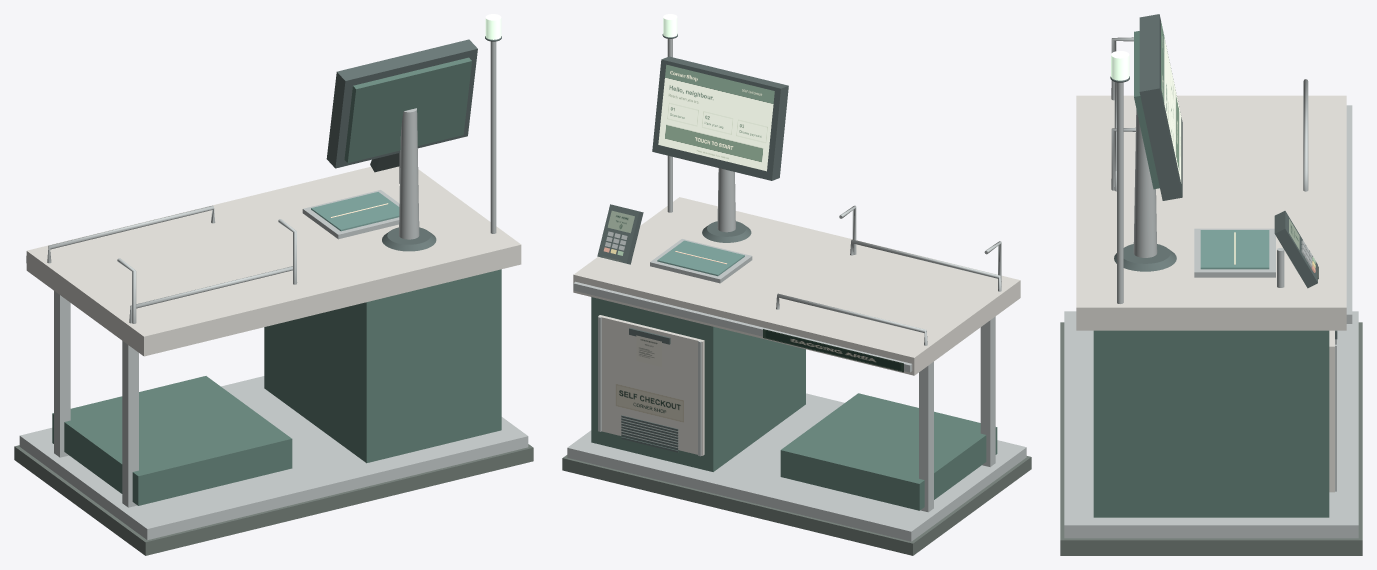
File: self-checkout-bagging.glb
3 renders of one model, left to right at view 1: azimuth 30°, elevation 25°; view 2: azimuth 150°, elevation 25°; view 3: azimuth 270°, elevation 25°, orthographic. The views are drawn at different scales.
Visible parts, largest first — view 1: library-equipment-self-checkout-bagging-product-equipment-fo, library-equipment-self-checkout-bagging-product-equipment-cr, library-equipment-self-checkout-bagging-product-equipment-st, library-equipment-self-checkout-bagging-product-equipment-ru, library-equipment-self-checkout-bagging-product-equipment-da, library-equipment-self-checkout-bagging-scanner-window; view 2: library-equipment-self-checkout-bagging-product-equipment-cr, library-equipment-self-checkout-bagging-product-equipment-fo, library-equipment-self-checkout-bagging-product-equipment-st, library-equipment-self-checkout-bagging-screen-mount-touchsc, library-equipment-self-checkout-bagging-product-equipment-da, library-equipment-self-checkout-bagging-product-equipment-ru, library-equipment-self-checkout-bagging-scanner-window, library-equipment-self-checkout-bagging-front-brand, library-equipment-self-checkout-bagging-bagging-sign, library-equipment-self-checkout-bagging-receipt-paper; view 3: library-equipment-self-checkout-bagging-product-equipment-cr, library-equipment-self-checkout-bagging-product-equipment-fo, library-equipment-self-checkout-bagging-product-equipment-st, library-equipment-self-checkout-bagging-product-equipment-ru, library-equipment-self-checkout-bagging-product-equipment-da, library-equipment-self-checkout-bagging-scanner-window, library-equipment-self-checkout-bagging-screen-mount-touchsc, library-equipment-self-checkout-bagging-assistance-light.
Boxes of the visible parts, x1=… form: library-equipment-self-checkout-bagging-product-equipment-fo: x1=52, y1=57, x2=501, y2=505; library-equipment-self-checkout-bagging-product-equipment-cr: x1=26, y1=166, x2=521, y2=356; library-equipment-self-checkout-bagging-product-equipment-st: x1=19, y1=41, x2=528, y2=539; library-equipment-self-checkout-bagging-product-equipment-ru: x1=14, y1=444, x2=533, y2=555; library-equipment-self-checkout-bagging-product-equipment-da: x1=326, y1=36, x2=501, y2=251; library-equipment-self-checkout-bagging-scanner-window: x1=311, y1=192, x2=399, y2=231; library-equipment-self-checkout-bagging-product-equipment-cr: x1=573, y1=197, x2=1020, y2=455; library-equipment-self-checkout-bagging-product-equipment-fo: x1=591, y1=297, x2=997, y2=510; library-equipment-self-checkout-bagging-product-equipment-st: x1=567, y1=38, x2=1026, y2=541; library-equipment-self-checkout-bagging-screen-mount-touchsc: x1=658, y1=64, x2=774, y2=171; library-equipment-self-checkout-bagging-product-equipment-da: x1=597, y1=34, x2=788, y2=452; library-equipment-self-checkout-bagging-product-equipment-ru: x1=562, y1=256, x2=1031, y2=555; library-equipment-self-checkout-bagging-scanner-window: x1=657, y1=240, x2=744, y2=276; library-equipment-self-checkout-bagging-front-brand: x1=615, y1=384, x2=683, y2=422; library-equipment-self-checkout-bagging-bagging-sign: x1=763, y1=329, x2=903, y2=372; library-equipment-self-checkout-bagging-receipt-paper: x1=636, y1=335, x2=661, y2=367; library-equipment-self-checkout-bagging-product-equipment-cr: x1=1076, y1=95, x2=1346, y2=492; library-equipment-self-checkout-bagging-product-equipment-fo: x1=1093, y1=31, x2=1329, y2=517; library-equipment-self-checkout-bagging-product-equipment-st: x1=1064, y1=37, x2=1358, y2=538; library-equipment-self-checkout-bagging-product-equipment-ru: x1=1060, y1=266, x2=1362, y2=555; library-equipment-self-checkout-bagging-product-equipment-da: x1=1110, y1=14, x2=1337, y2=339; library-equipment-self-checkout-bagging-scanner-window: x1=1200, y1=230, x2=1269, y2=269; library-equipment-self-checkout-bagging-screen-mount-touchsc: x1=1161, y1=22, x2=1181, y2=183; library-equipment-self-checkout-bagging-assistance-light: x1=1111, y1=51, x2=1129, y2=80.
Bounding box in the file's own units: 1.64 × 1.73 × 0.96.
16 materials, 5 textured.
